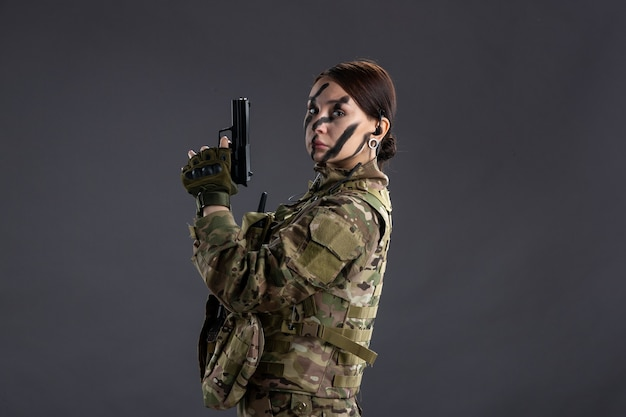gun: (211, 96, 253, 189)
